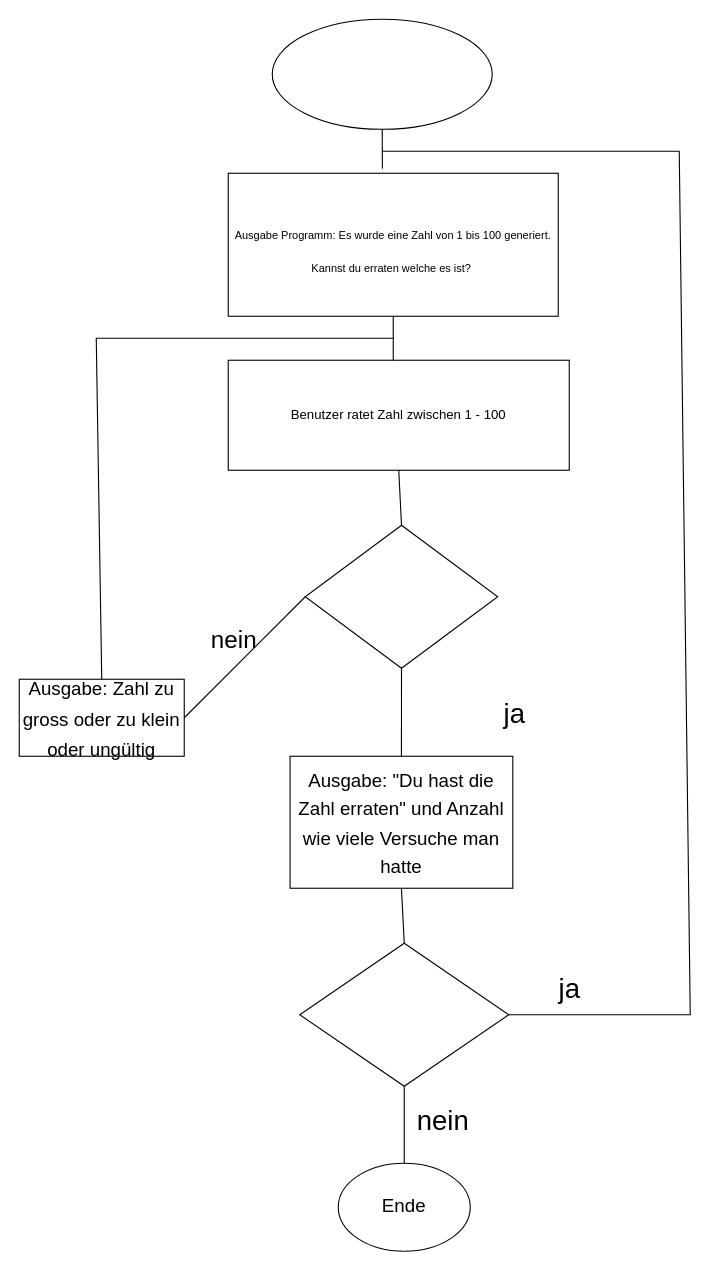
The diagram is 711 pixels wide and 1271 high, and some of its shapes have lost their labels. Here are the shapes that lost their labels. From the top down, the centre of each, then its label:
point (381, 73): Start
point (401, 596): richtige Zahl geratet?
point (404, 1014): Ausgabe: Willst du nochmals spielen?
